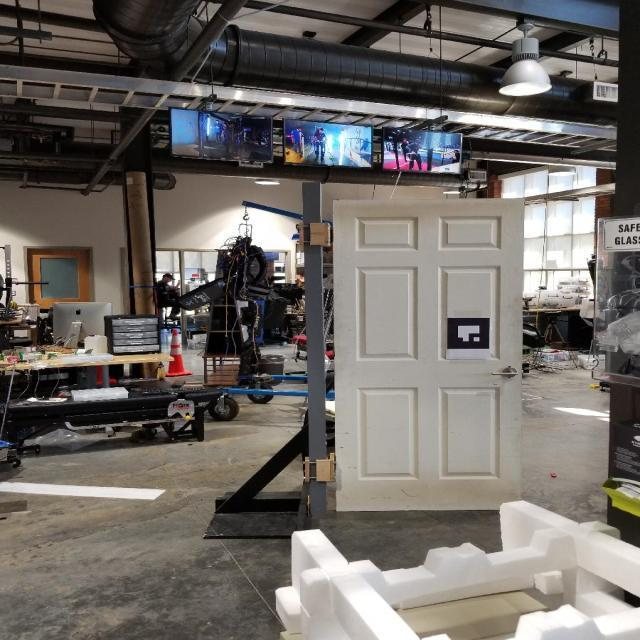door: (330, 196, 526, 512), (489, 364, 522, 378)
